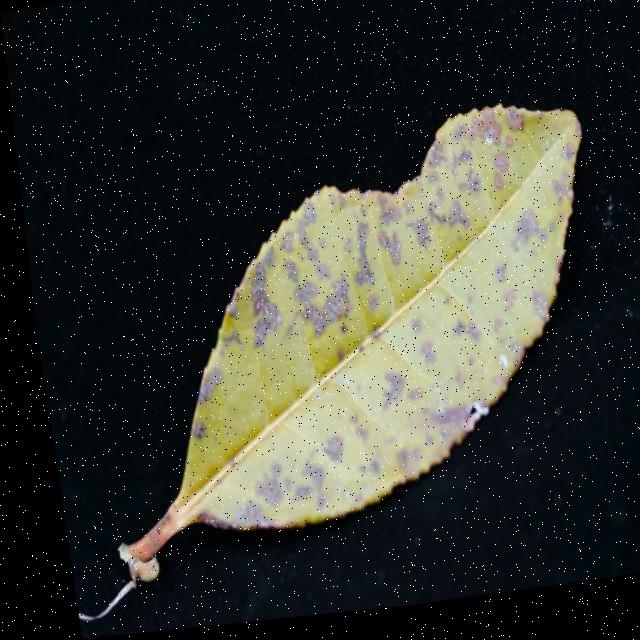Tea red rust: (155, 122, 577, 537)
